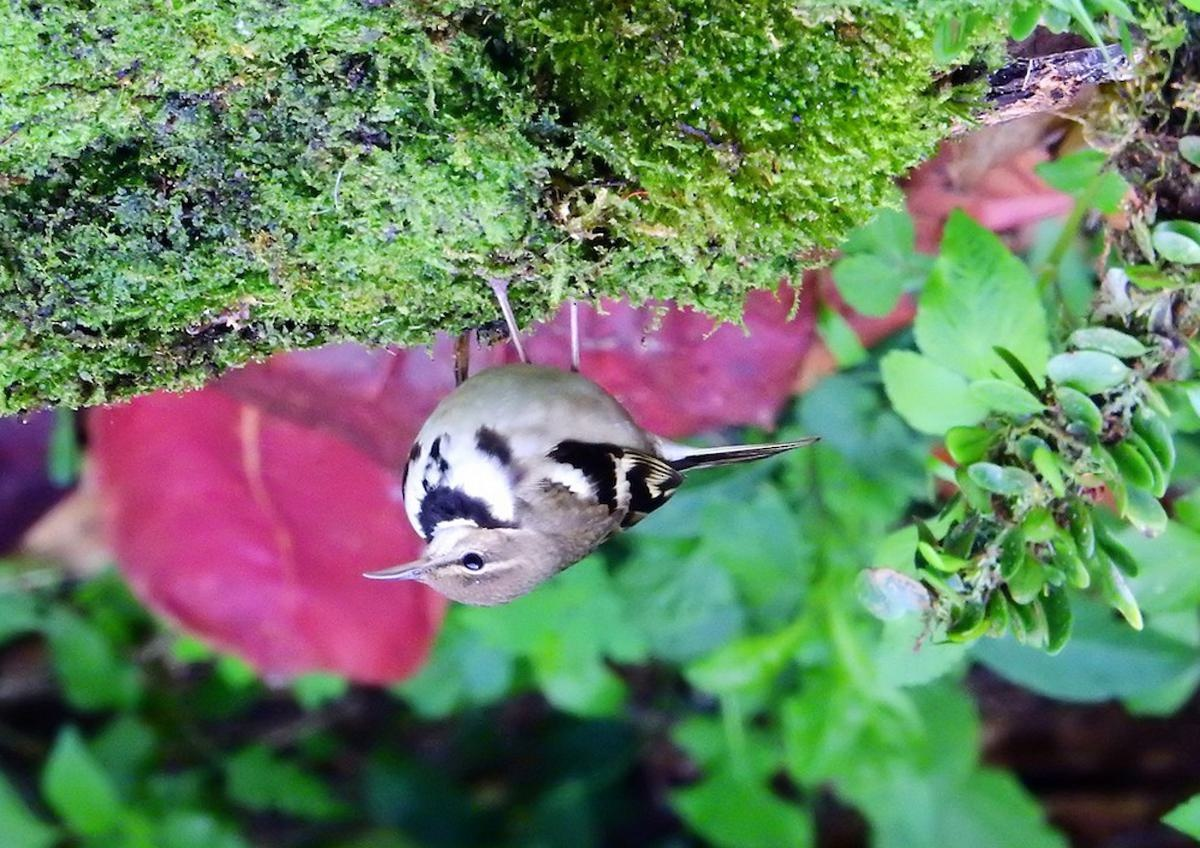wagtail: (361, 320, 838, 637)
